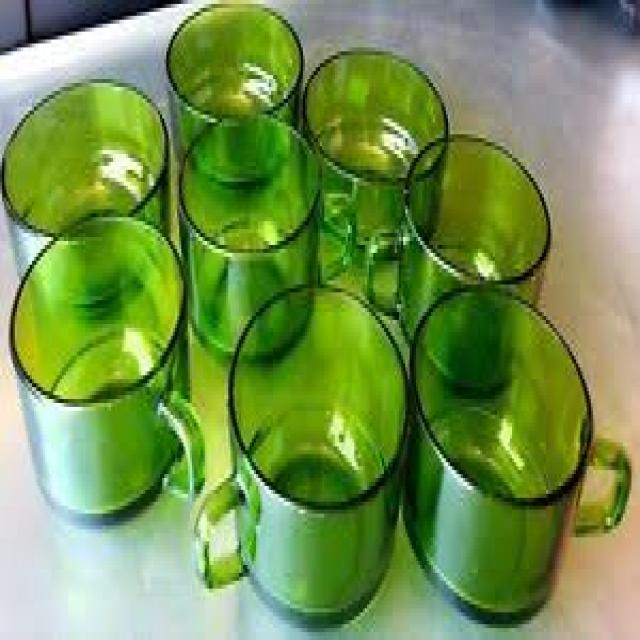glass: (404, 281, 630, 632), (190, 281, 405, 628), (7, 210, 201, 530), (363, 130, 548, 395), (177, 111, 356, 356), (0, 75, 169, 316), (299, 43, 448, 257), (162, 0, 305, 186)
